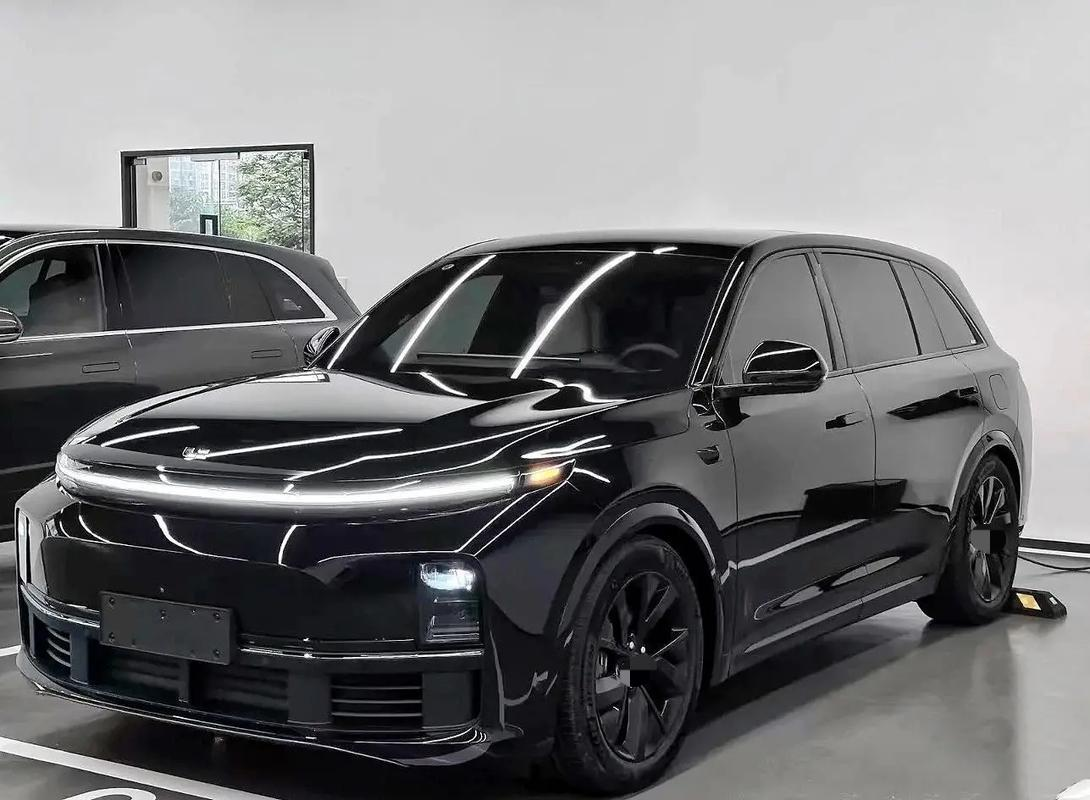Li Auto: (181, 446, 211, 460)
